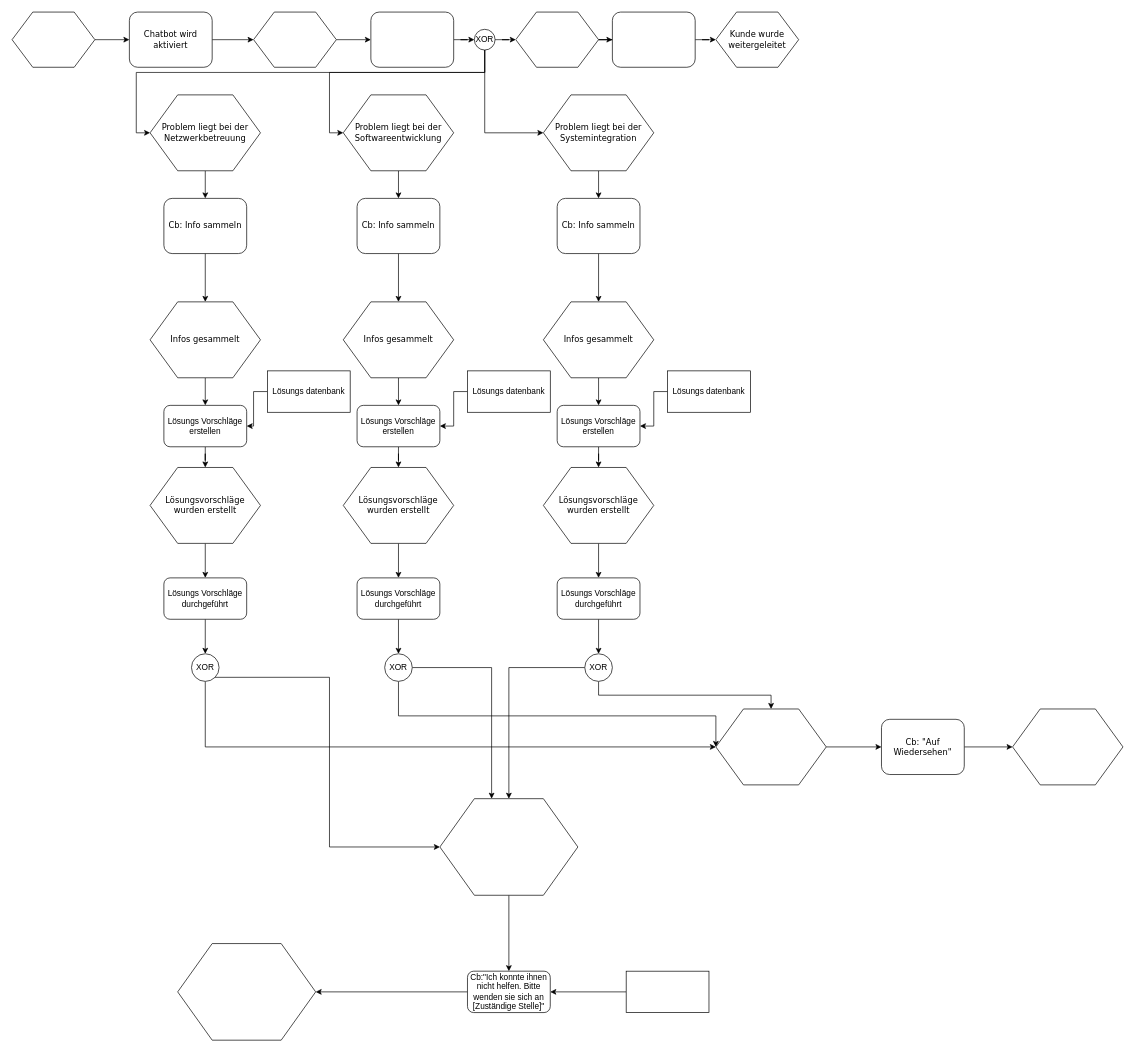
The diagram is 1135 pixels wide and 1052 high, and some of its shapes have lost their labels. Here are the shapes that lost their labels. From the top down, the centre of each, then its label:
pixel 53 39: Kunde hat Problem
pixel 294 39: Chatbot ist aktiviert
pixel 412 39: Cb: "In welchen Bereichen kann ich behilflich sein?"
pixel 557 39: Problem liegt bei der Buchaltung
pixel 653 39: Cb: "wenden sie sich an [Buchaltung]"
pixel 770 746: Lösungsvorschläge waren erfolgreich
pixel 1067 746: Chatbot deaktivert sich
pixel 508 846: Lösungsvorschläge waren nichterfolgreich
pixel 246 991: Chatbot dekativiert sich
pixel 667 991: Liste Zuständige Stelle
